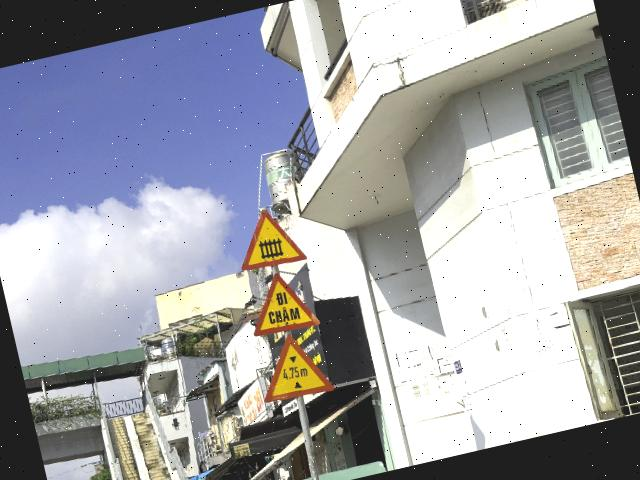chieu-cao-tinh-khong-thuc-te: (250, 326, 335, 406)
di-cham: (241, 264, 320, 339)
noi-giao-nhau-voi-duong-sat-co-rao-chan: (229, 201, 308, 274)
